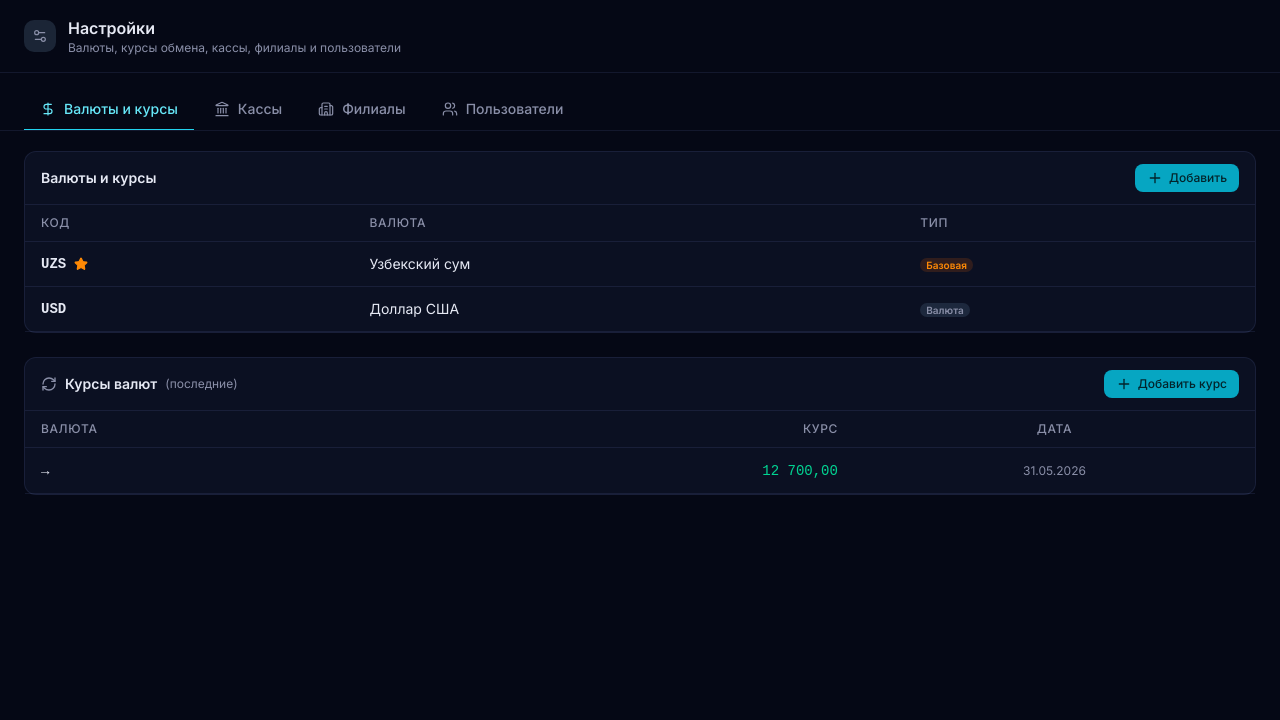
SettingsPage › переключает на таб Филиалы и показывает данные
Click the tab "Филиалы" at (362, 110), box [302,89,422,131]
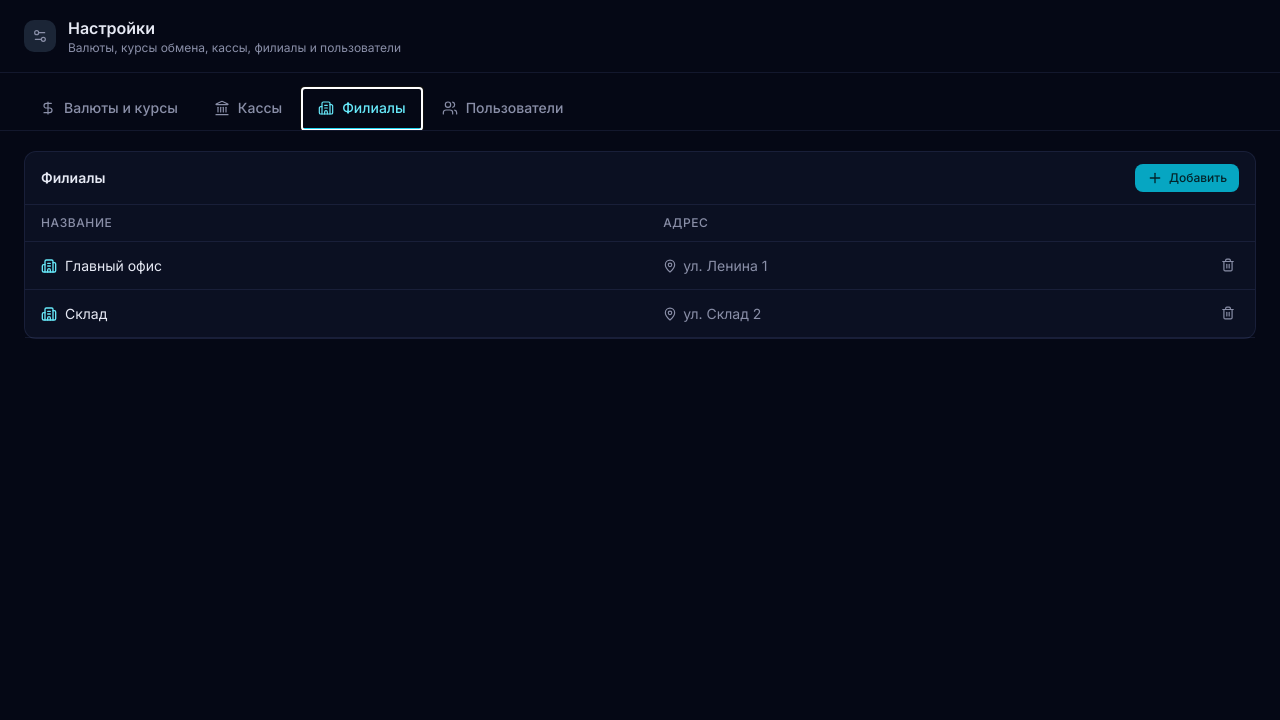
Check: the text "Главный офис" is shown, box [65,256,162,276]
Check: the text "Склад" is shown, box [65,304,107,324]
